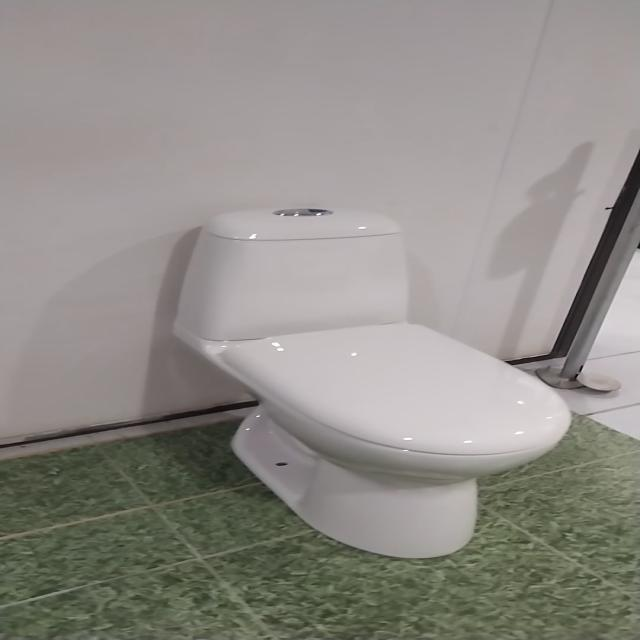toilet: (170, 207, 572, 559)
